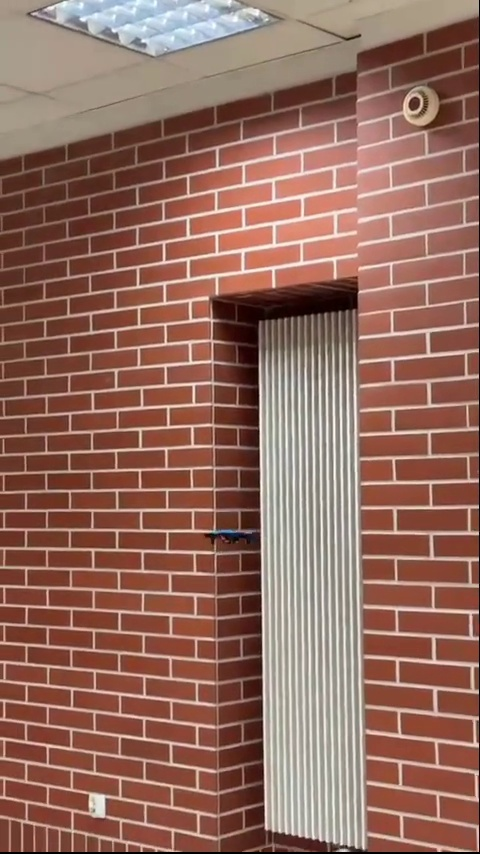drone: (200, 530, 263, 548)
